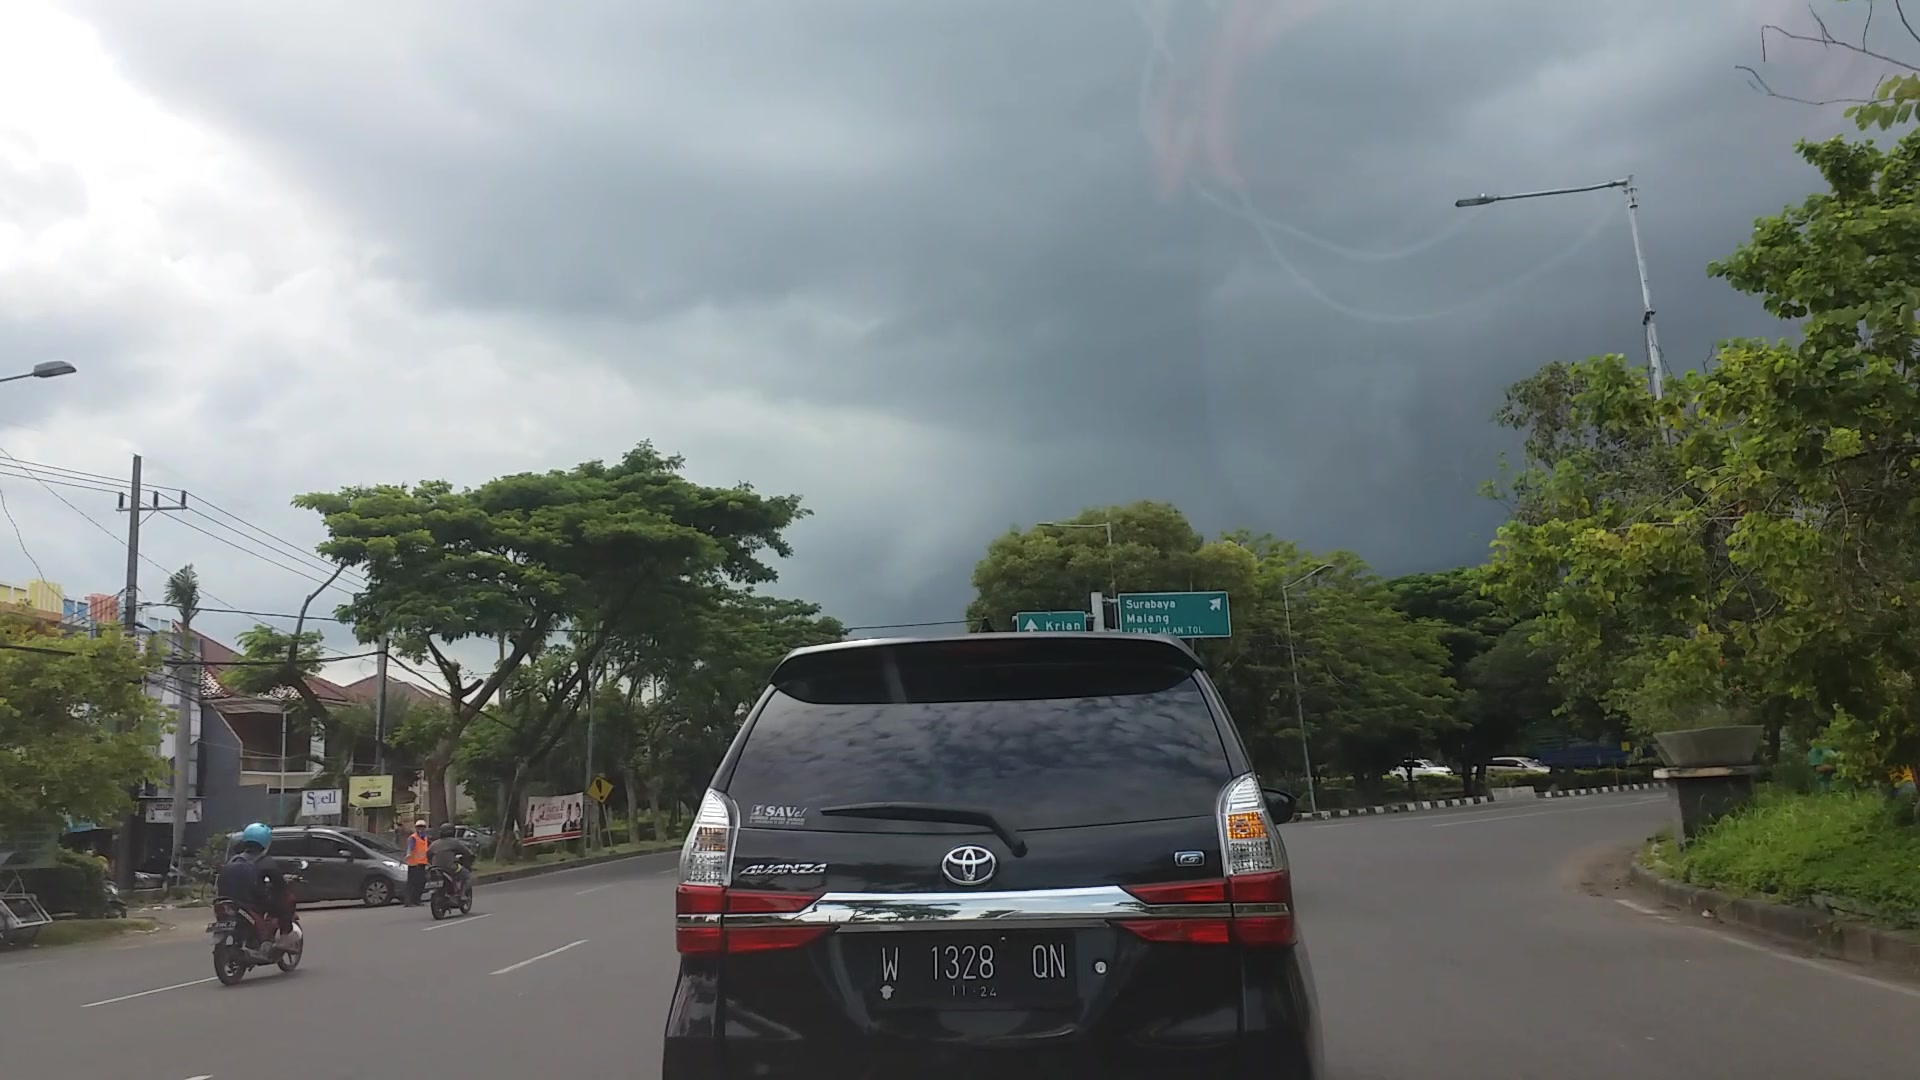plate_positive: (872, 931, 1077, 1011)
